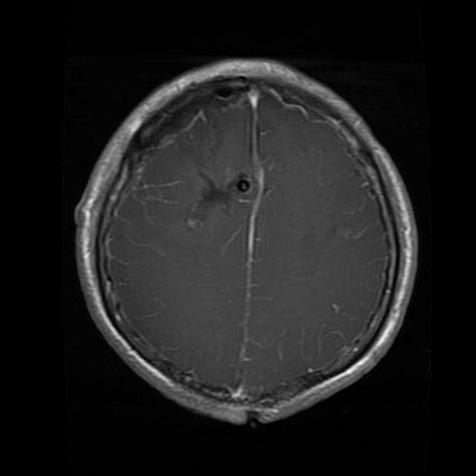Tumour-Glioma: (185, 169, 248, 232)
